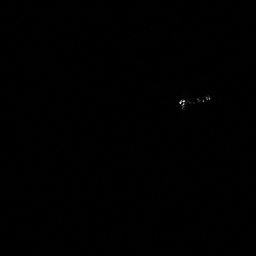ship: (178, 95, 211, 111)
